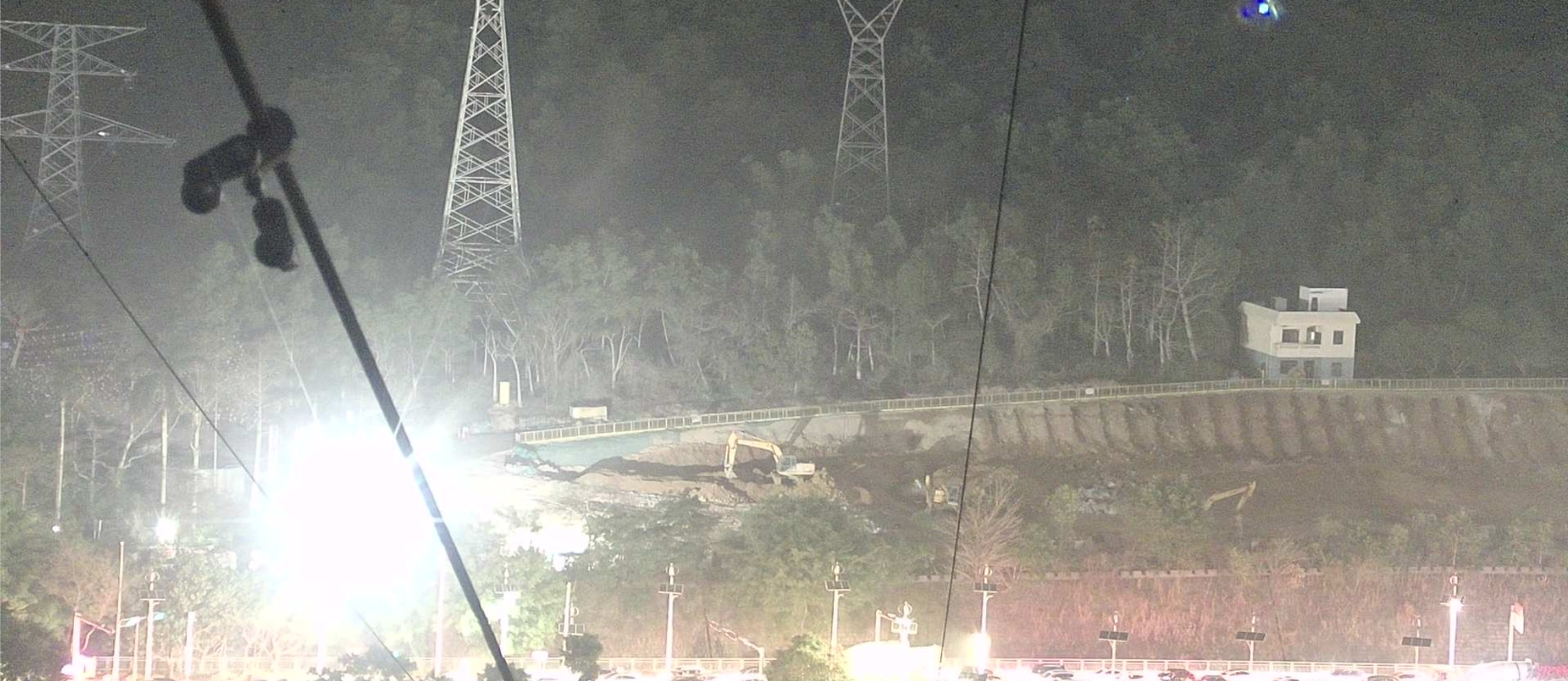过爆灯光: (245, 418, 501, 635), (841, 633, 964, 680), (506, 511, 589, 571), (966, 631, 991, 673), (61, 654, 96, 680), (156, 517, 179, 543)
